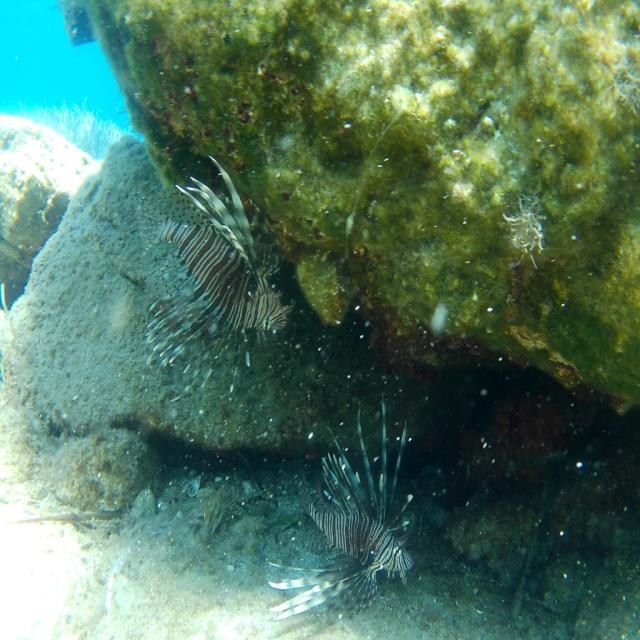Aslan Baligi: (132, 154, 296, 398), (273, 405, 445, 624)
